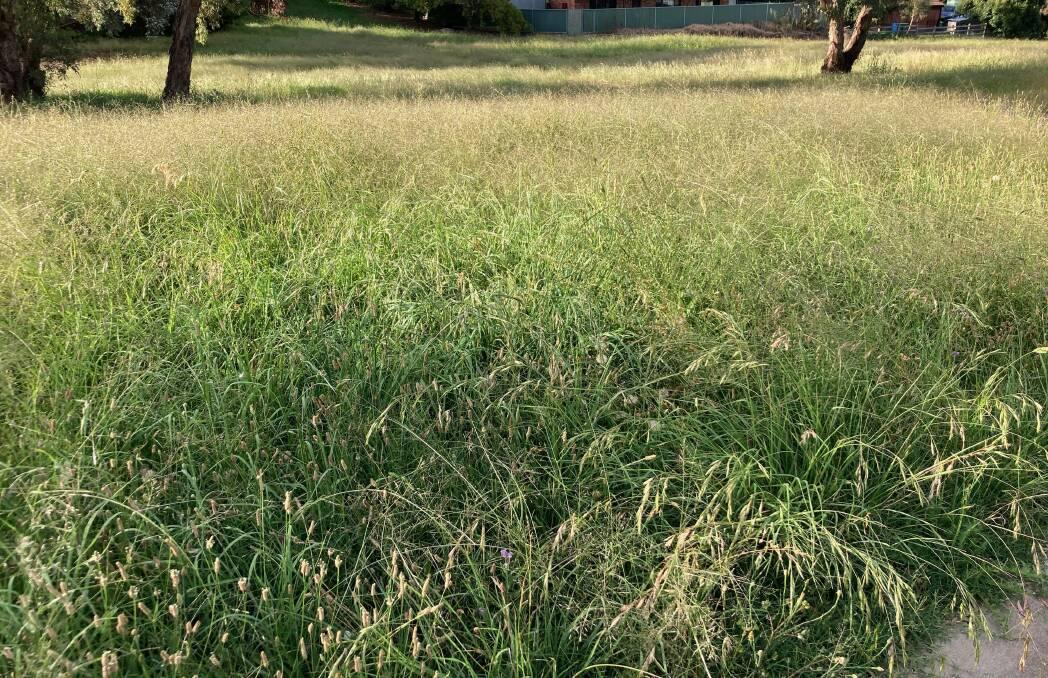overgrown grass: (0, 43, 1047, 677)
